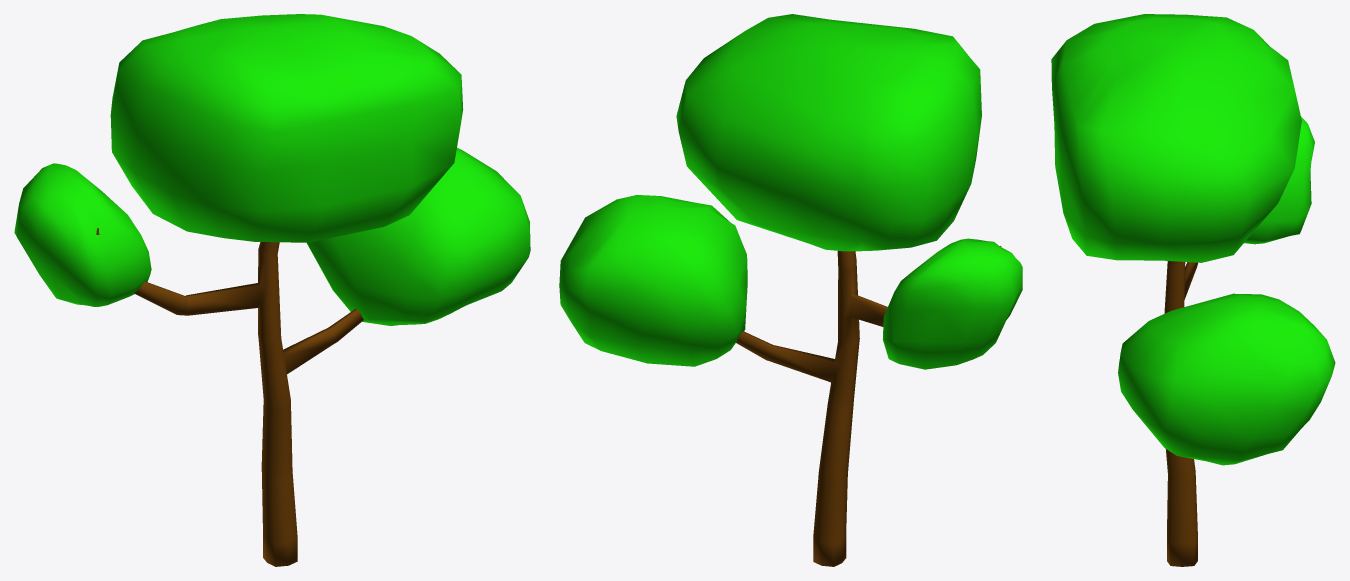
Rendered from Tree2.fbx.
The picture shows the model from 3 angles, left to right: view 1: azimuth 30°, elevation 25°; view 2: azimuth 150°, elevation 25°; view 3: azimuth 270°, elevation 25°; orthographic projection. The views are drawn at different scales.
Visible parts, largest first — view 1: Sphere.002; view 2: Sphere.002; view 3: Sphere.002.
Boxes of the visible parts, <box> form: Sphere.002: <box>14,14,530,566</box>; Sphere.002: <box>559,14,1022,566</box>; Sphere.002: <box>1051,14,1335,566</box>.
Size of the model in its own units: 4367 by 4713 by 2385.
